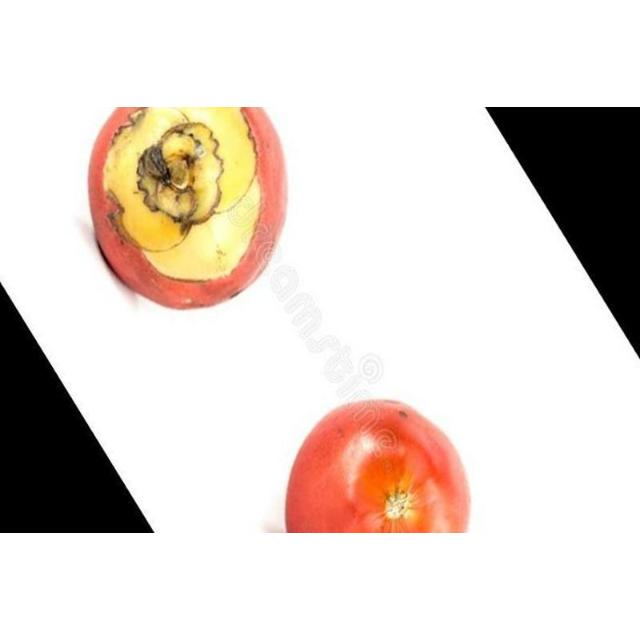good: (87, 107, 286, 311), (283, 401, 472, 533)
